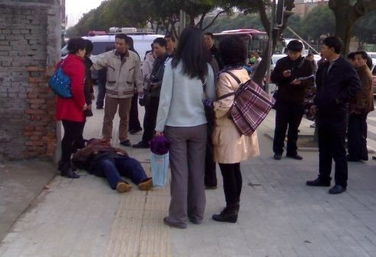10+: (53, 22, 376, 217)
down: (57, 127, 157, 198)
